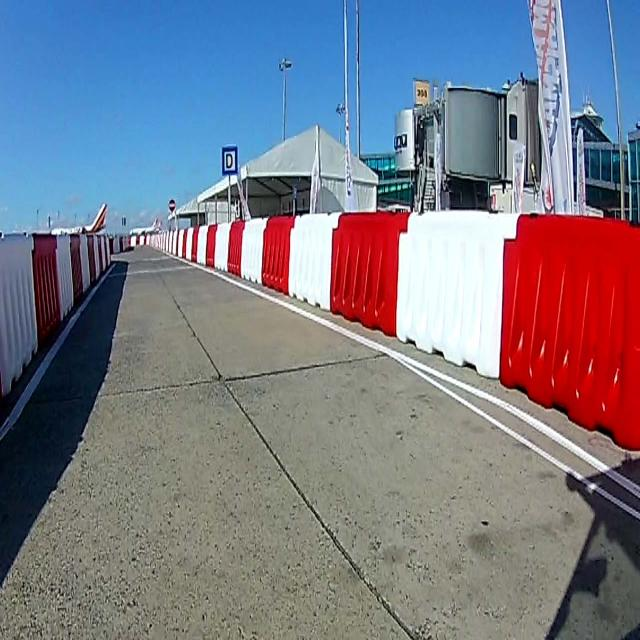durak: (221, 144, 239, 176)
girisyok: (169, 196, 177, 214)
